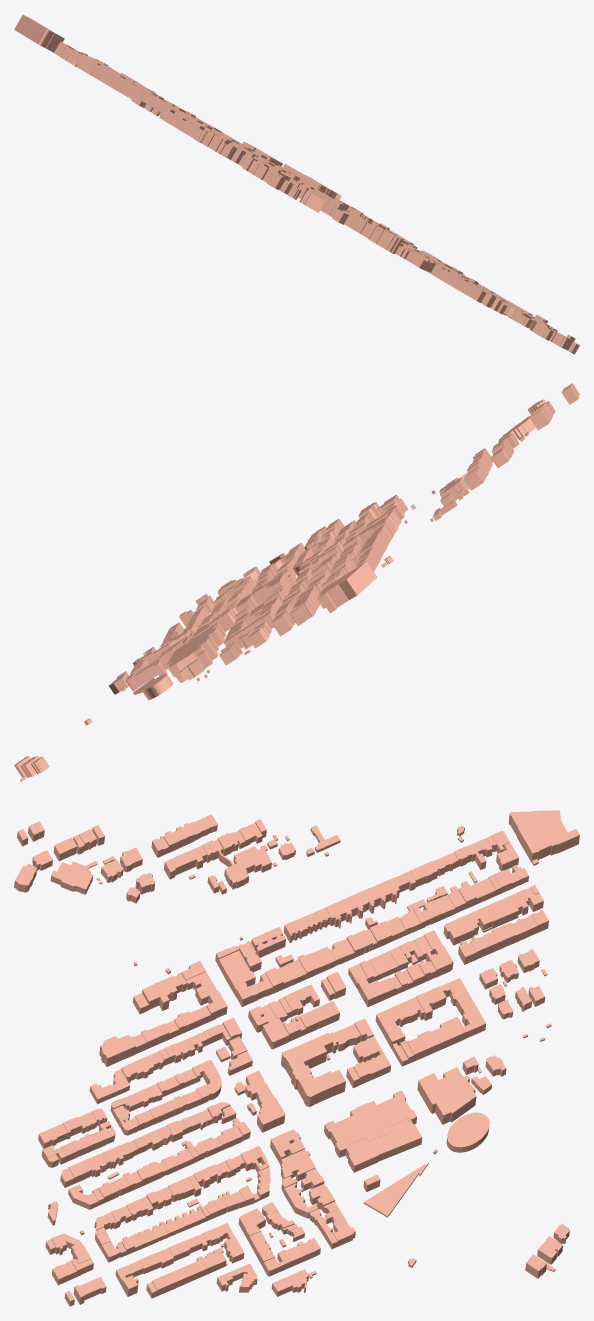
3 renders of one model, top to bottom at view 1: azimuth 30°, elevation 25°; view 2: azimuth 150°, elevation 25°; view 3: azimuth 270°, elevation 25°, orthographic. The views are drawn at different scales.
Size of the model in its own units: 540 by 392 by 651.
